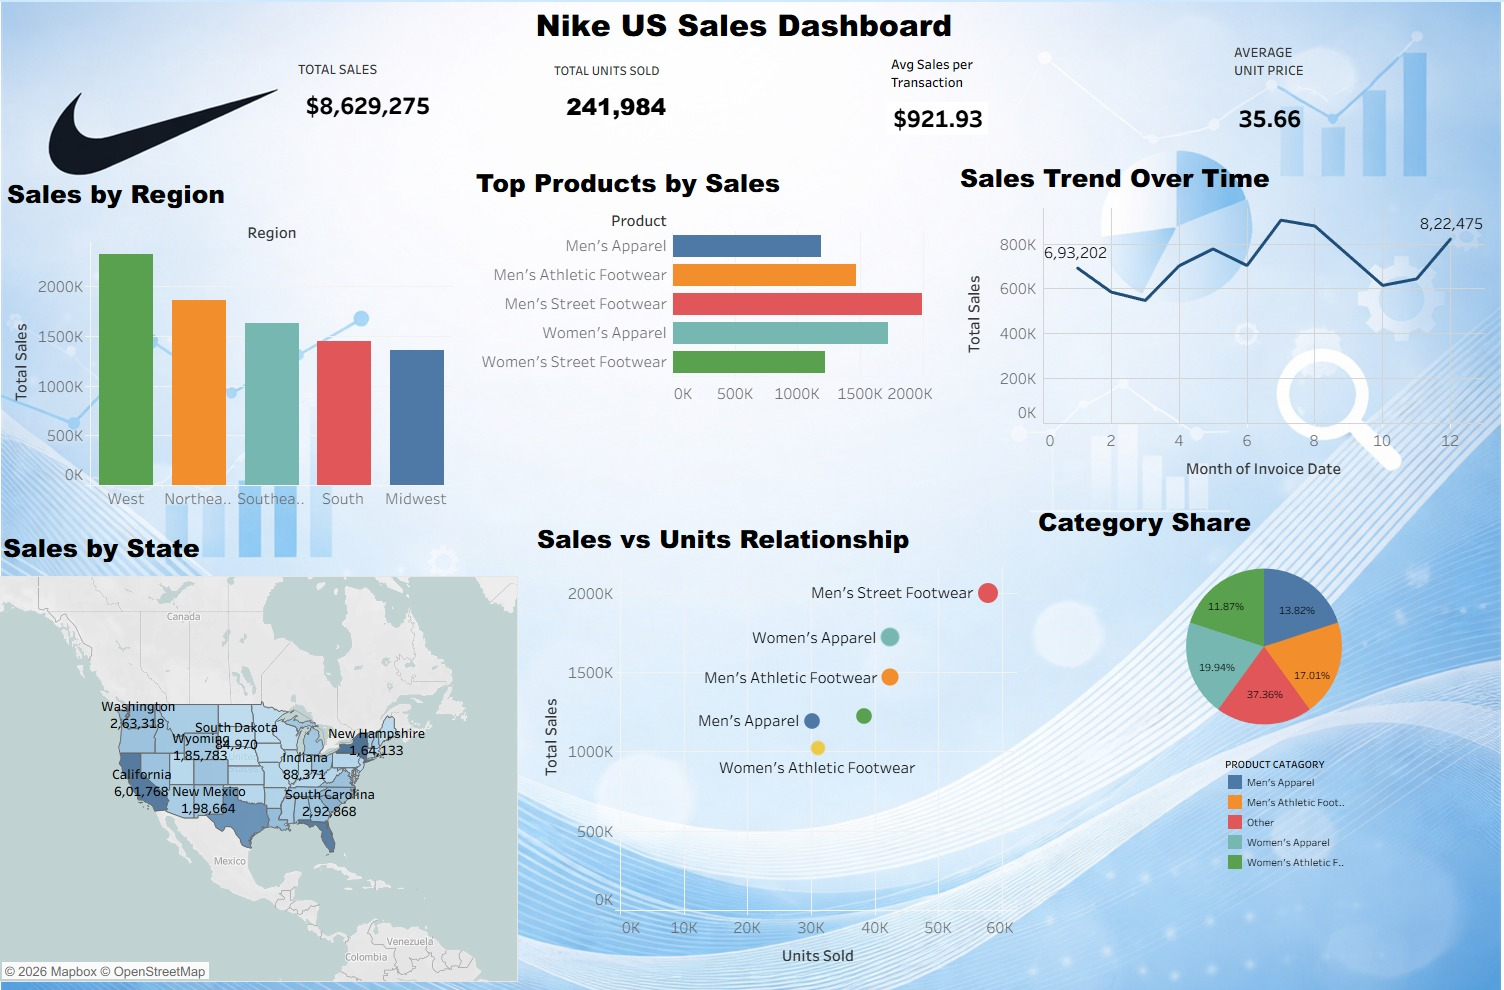

This screenshot's page, from the dashboard's own definition file:
{"tool":"tableau","page":{"name":"Dashboard 1","canvas":[1900,1000],"ordinal":0},"visuals":[{"type":"title","box":[8,8,1884,51]},{"type":"worksheet","title":"Sheet 4","mark":"Automatic","box":[1262,56,316,138]},{"type":"worksheet","title":"Sheet 3","mark":"Automatic","box":[812,61,377,137]},{"type":"worksheet","title":"Sheet 2","mark":"Automatic","box":[393,65,360,127]},{"type":"worksheet","title":"Sheet 1","mark":"Automatic","box":[25,68,330,122]},{"type":"worksheet","title":"Sheet 5","mark":"Line","rows":["Total Sales"],"cols":["Invoice Date"],"box":[8,196,517,326.1]},{"type":"worksheet","title":"Sheet 6","mark":"Bar","rows":["Total Sales"],"cols":["Region"],"box":[525,196,475,326.1]},{"type":"worksheet","title":"Sheet 7","mark":"Bar","rows":["Product"],"cols":["Total Sales"],"box":[1000,196,892,326.1]},{"type":"worksheet","title":"Sheet 8","mark":"Multipolygon","box":[8,522.1,1067,469.9]},{"type":"worksheet","title":"Sheet 9","mark":"Circle","rows":["Total Sales"],"cols":["Units Sold"],"box":[1075,522.1,536,469.9]},{"type":"worksheet","title":"Sheet 10","mark":"Pie","box":[1611,522.1,281,469.9]},{"type":"legend","title":"Sheet 10","param":"[federated.0p5j7a80kux6c31bru5z118nf1fg].[none:Calculation_1228730241478659:nk]","box":[1647,801,217,148]}]}

Visuals, with their boxes on the page's 1900x1000 design canvas (x1, y1, x2, y2). These are canvas units, not pixel positions in the 1504x990 screenshot, which may show the page scaled, cropped or inside an application window:
title: rect(8, 8, 1892, 59)
"Sheet 4" worksheet: rect(1262, 56, 1578, 194)
"Sheet 3" worksheet: rect(812, 61, 1189, 198)
"Sheet 2" worksheet: rect(393, 65, 753, 192)
"Sheet 1" worksheet: rect(25, 68, 355, 190)
"Sheet 5" worksheet (Line marks): rect(8, 196, 525, 522)
"Sheet 6" worksheet (Bar marks): rect(525, 196, 1000, 522)
"Sheet 7" worksheet (Bar marks): rect(1000, 196, 1892, 522)
"Sheet 8" worksheet (Multipolygon marks): rect(8, 522, 1075, 992)
"Sheet 9" worksheet (Circle marks): rect(1075, 522, 1611, 992)
"Sheet 10" worksheet (Pie marks): rect(1611, 522, 1892, 992)
"Sheet 10" legend: rect(1647, 801, 1864, 949)
